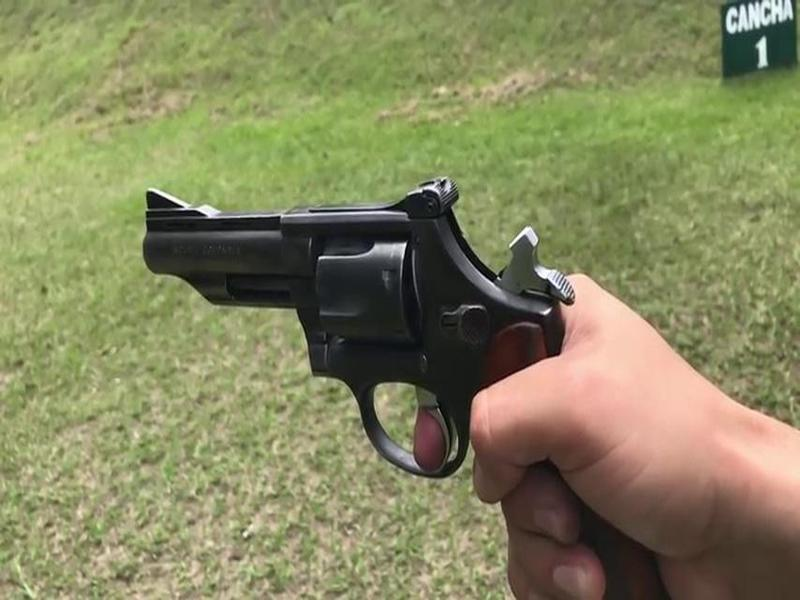Revolver: (126, 134, 605, 524)
